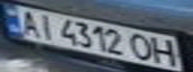1: (87, 24, 109, 52)
2: (103, 26, 127, 56)
3: (72, 20, 93, 48)
4: (54, 17, 78, 46)
A: (15, 7, 42, 37)
H: (151, 36, 181, 68)
I: (33, 11, 60, 39)
O: (127, 32, 157, 62)
